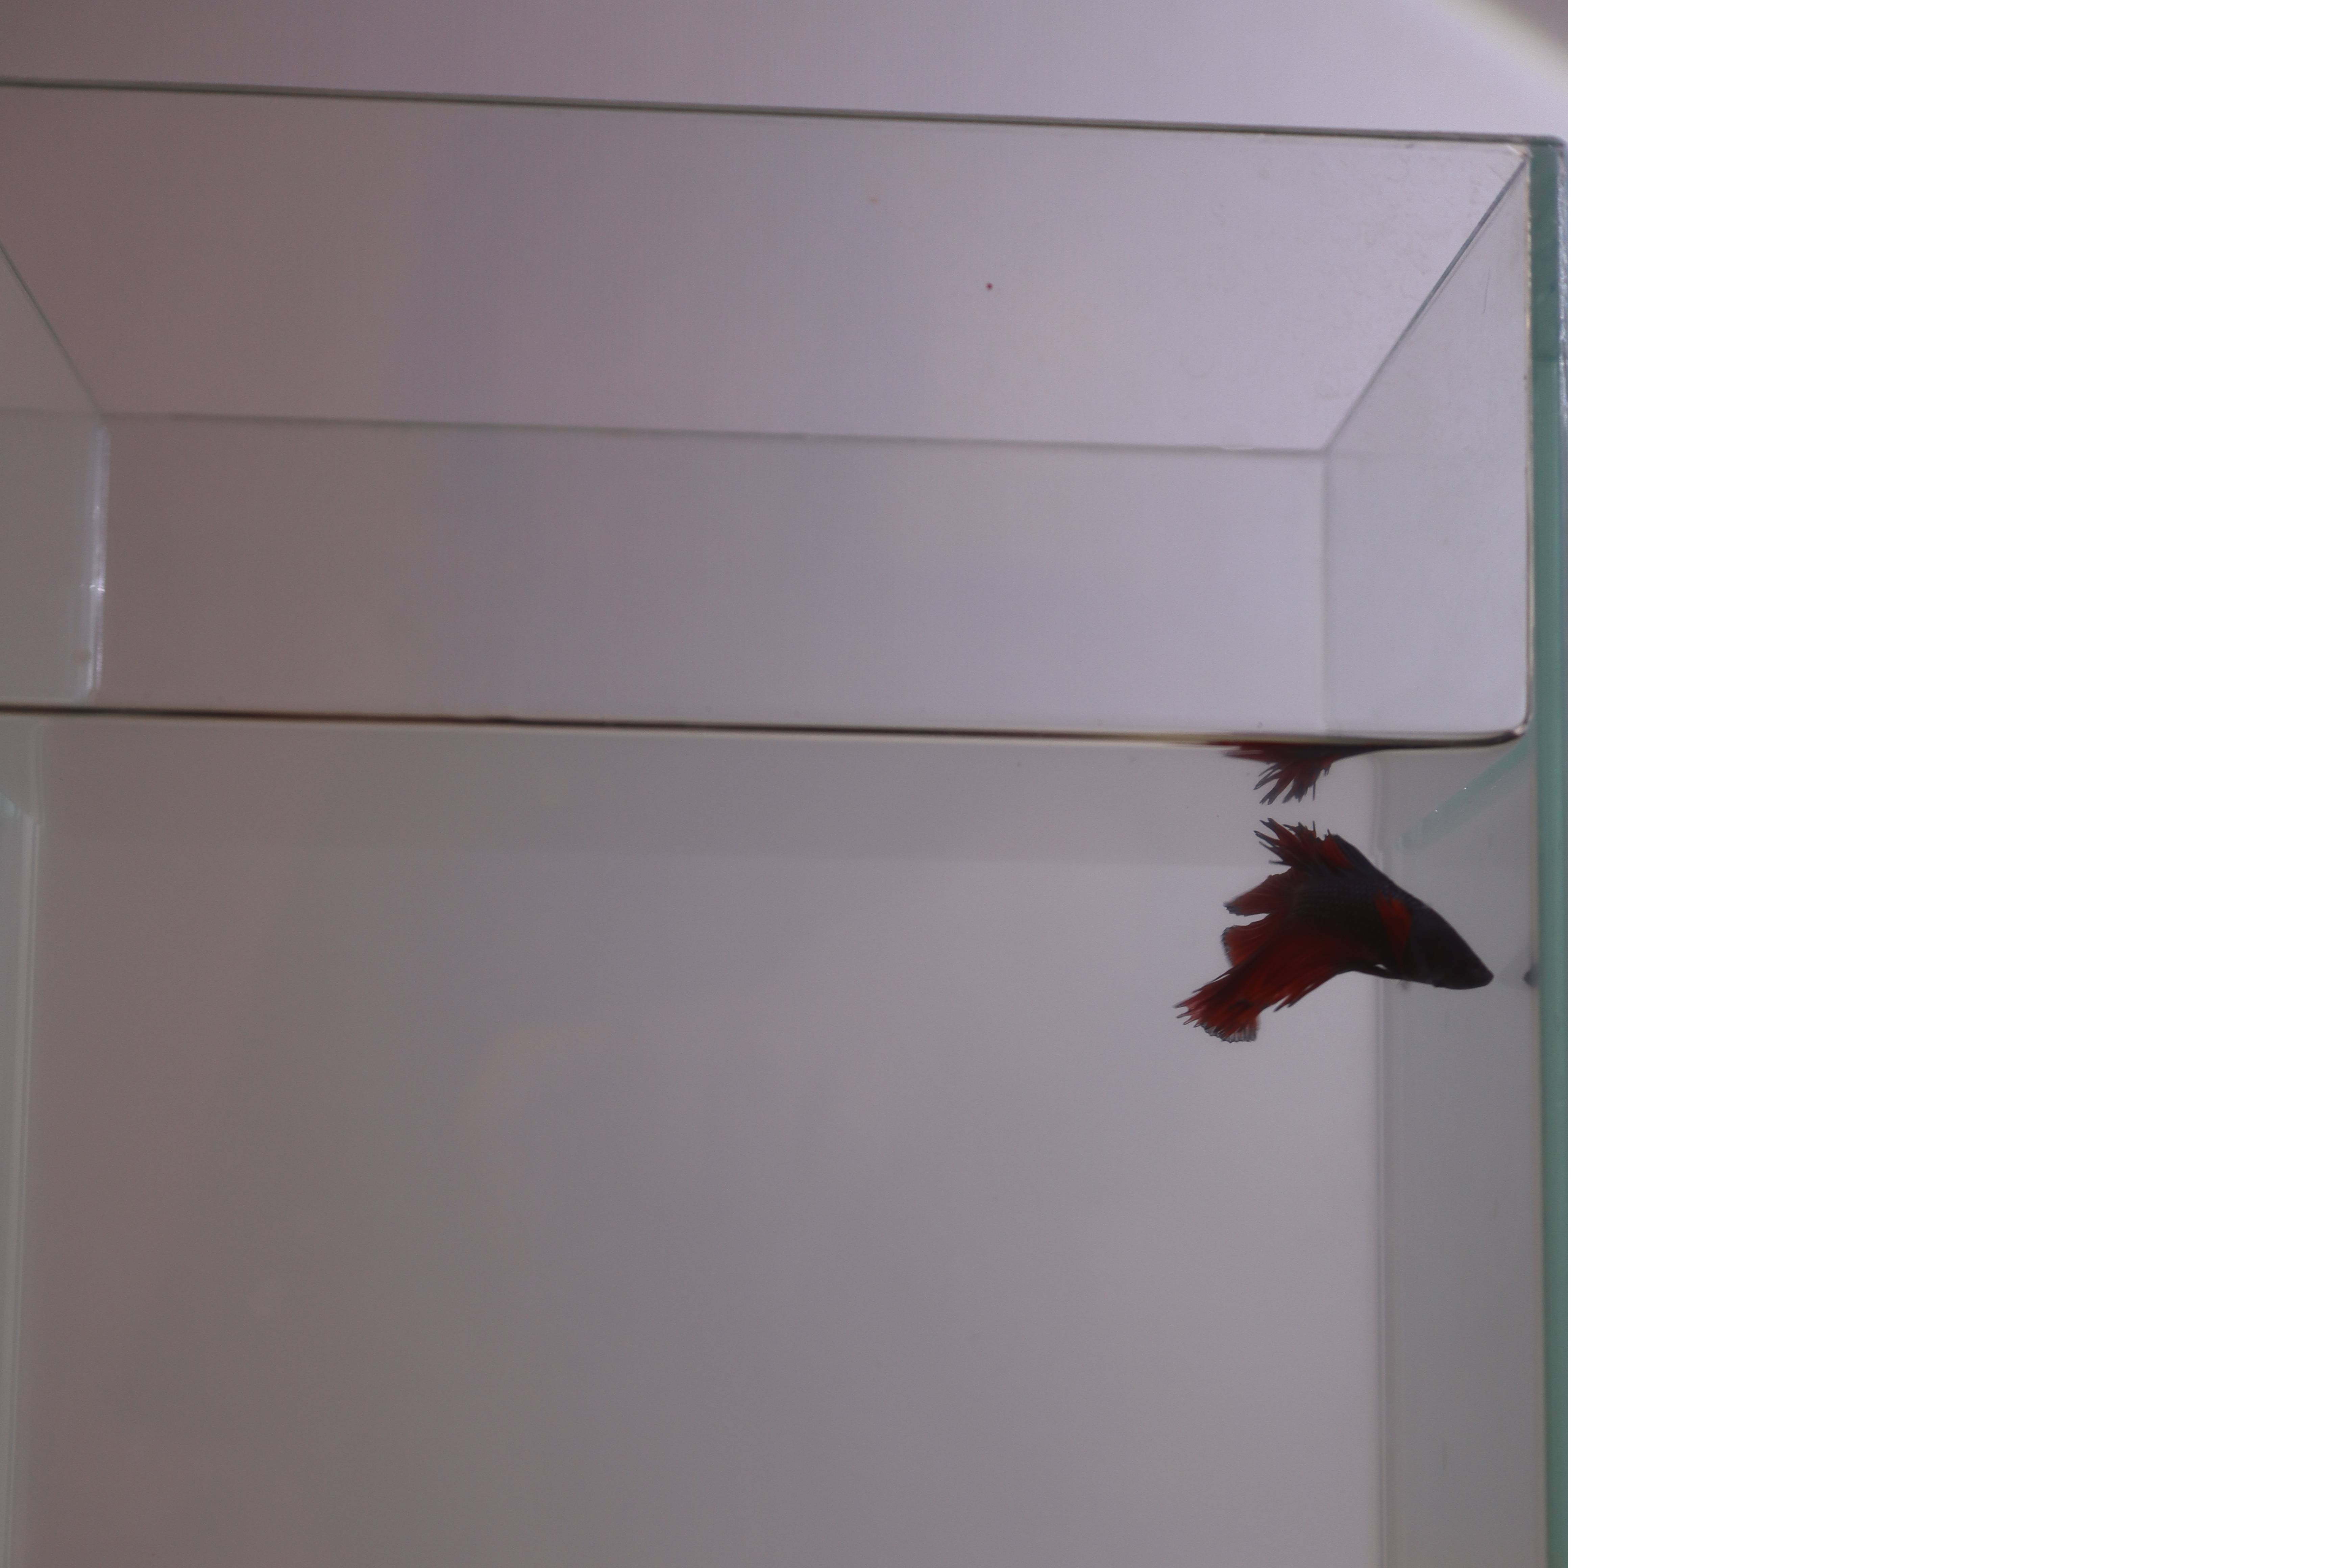fish: (1160, 815, 1505, 1078)
